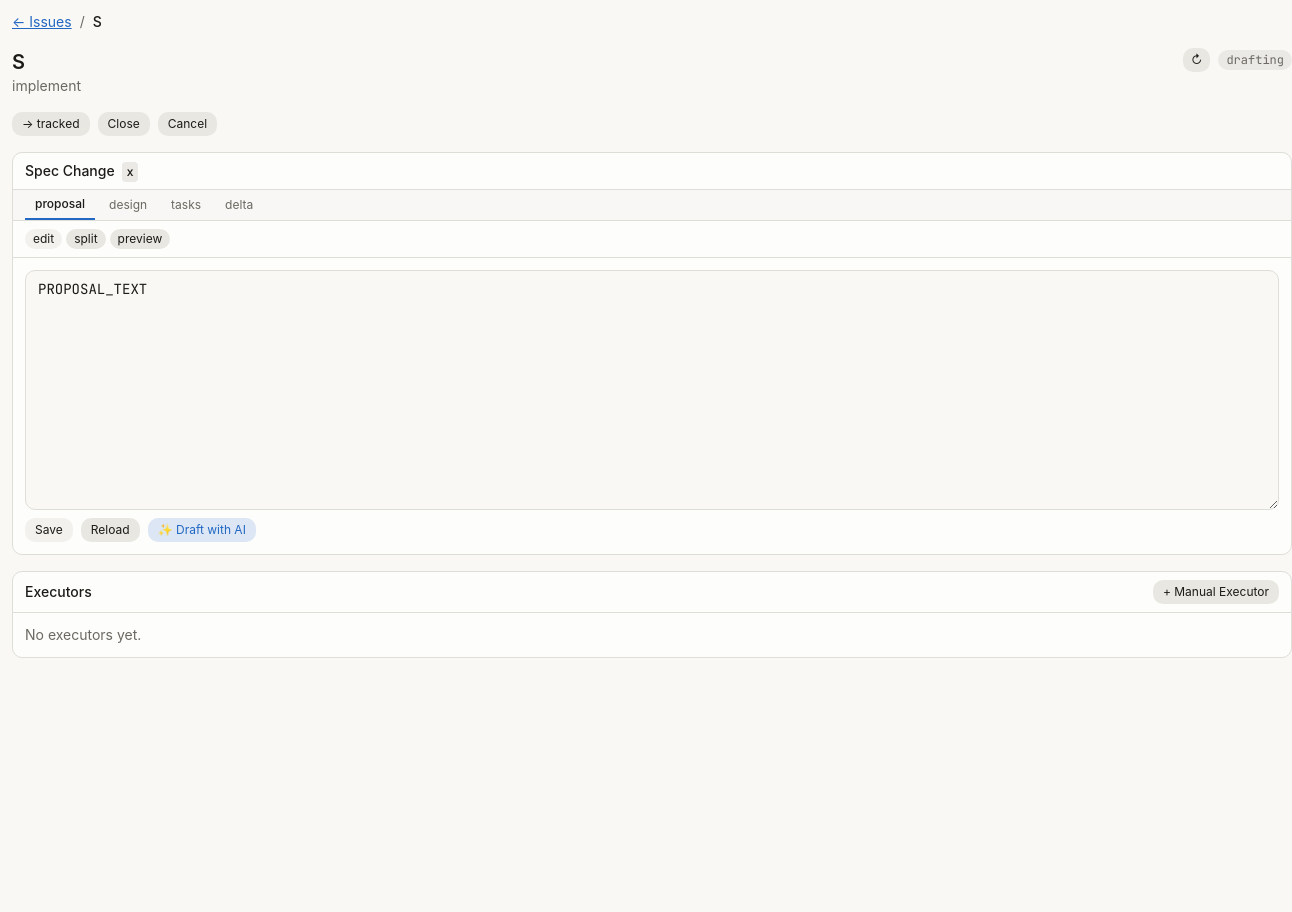
SubIssueDetailScreen › SpecChange artifact tabs › delta tab shows existing capabilities + Add input
Expected: the text box holds "PROPOSAL_TEXT", [25,270,1279,510]
Step 1. Click the button "delta" → (239, 205), box [215,191,263,219]
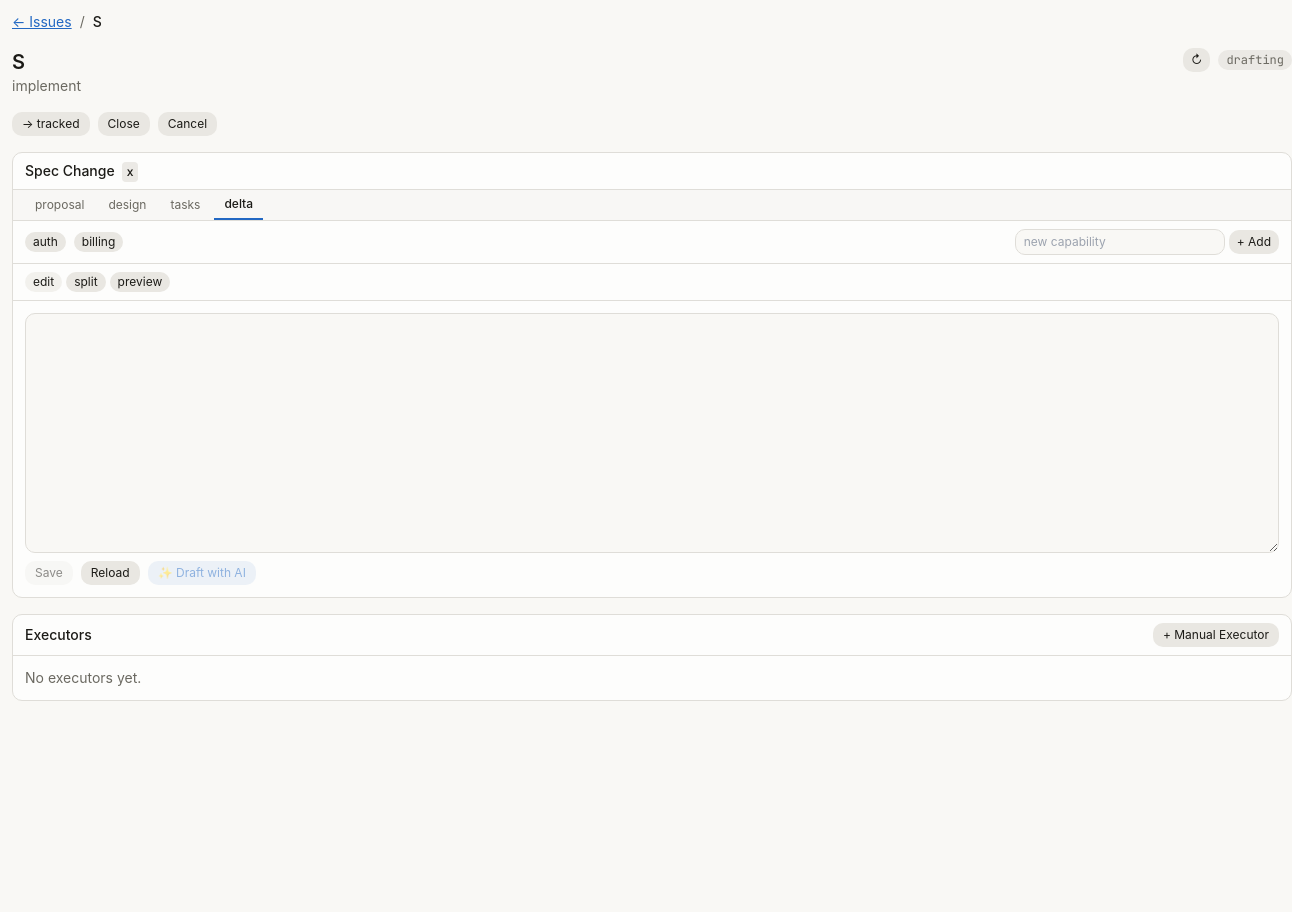
Now the button "auth" is shown, box [25,232,66,252]
Now the button "billing" is shown, box [74,232,123,252]
Now the field with placeholder "new capability" is shown, box [1015,229,1225,255]
